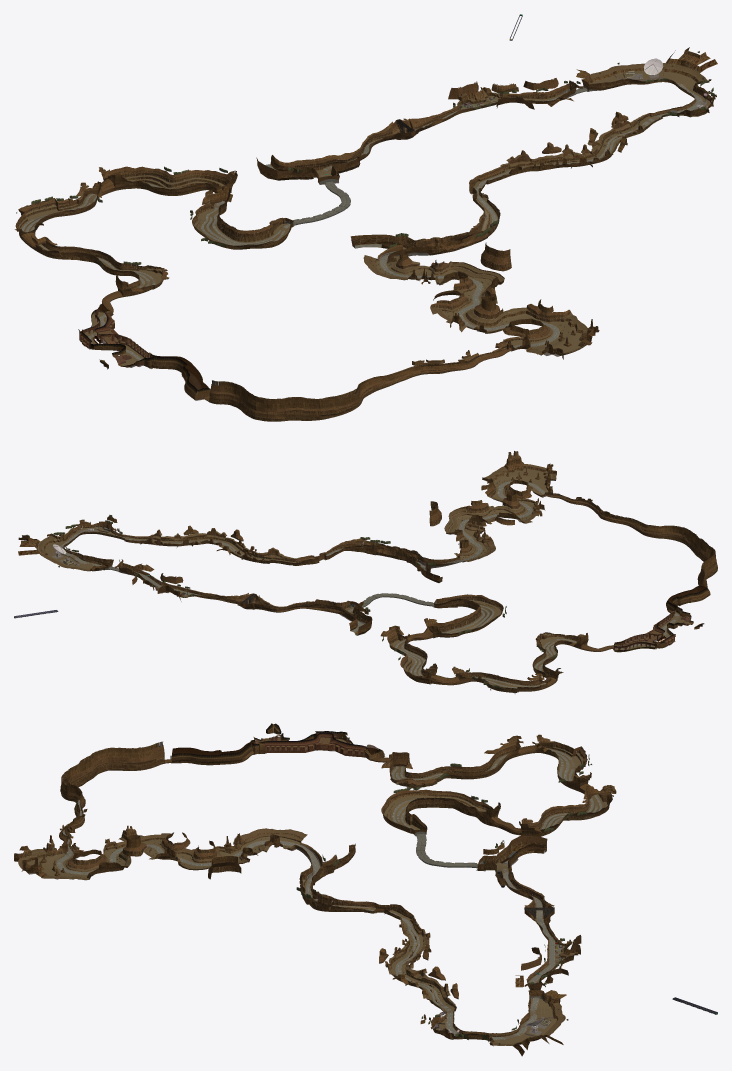
Rendered from nfs_iii_hot_pursuit_-_lost_canyons.glb.
The picture shows the model from 3 angles, top to bottom: view 1: azimuth 30°, elevation 25°; view 2: azimuth 150°, elevation 25°; view 3: azimuth 270°, elevation 25°; orthographic projection. The views are drawn at different scales.
Parts seen in each view (by area): view 1: 0001_material_atlas_00003_1_0; view 2: 0001_material_atlas_00003_1_0; view 3: 0001_material_atlas_00003_1_0.
Part boxes in pixels (box(x1,y1,x2,y2)): 0001_material_atlas_00003_1_0: box(14, 14, 717, 421); 0001_material_atlas_00003_1_0: box(14, 451, 717, 693); 0001_material_atlas_00003_1_0: box(14, 723, 717, 1056).
Bounding box in the file's own units: 2923 × 203 × 2469.
Materials: 1 (1 with a texture image).
